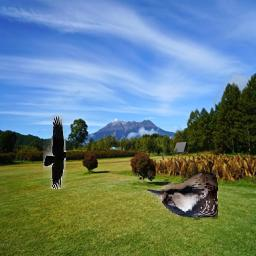Crow: (44, 115, 67, 189)
Woodpecker: (148, 170, 219, 220)
